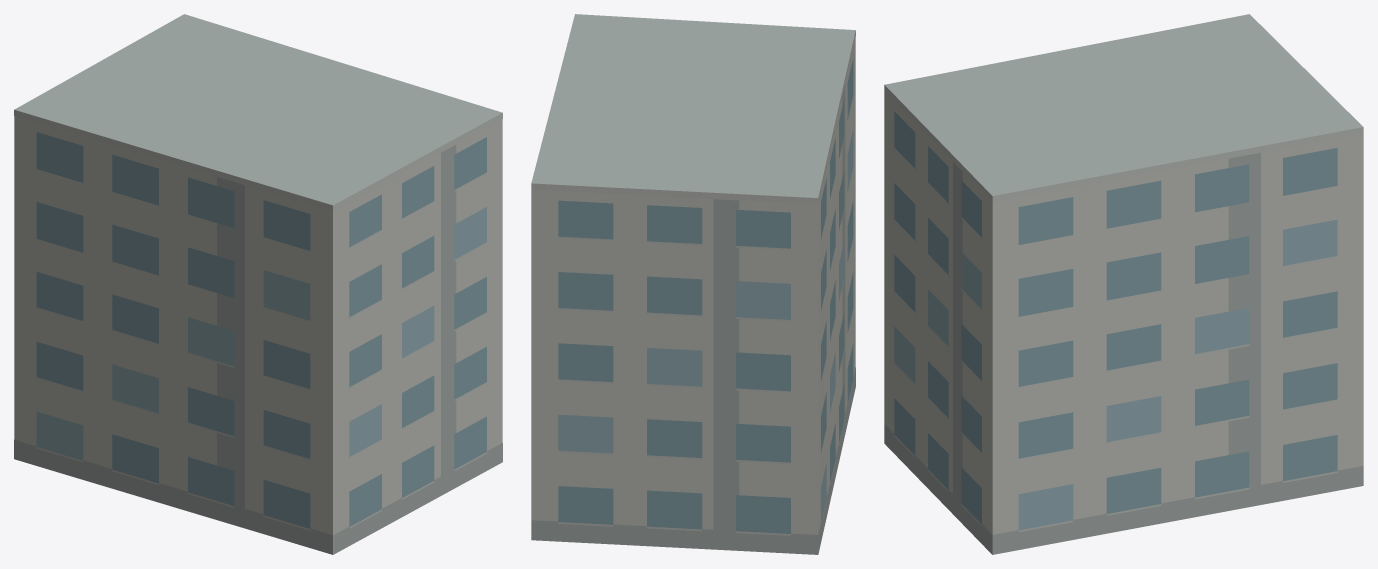
Rendered from survey-upis-32848184.glb.
3 renders of one model, left to right at view 1: azimuth 30°, elevation 25°; view 2: azimuth 150°, elevation 25°; view 3: azimuth 270°, elevation 25°, orthographic. The views are drawn at different scales.
Visible parts, largest first — view 1: survey-upis-32848184.tmp; view 2: survey-upis-32848184.tmp; view 3: survey-upis-32848184.tmp.
Part boxes in pixels (x1,y1,x2,y2): survey-upis-32848184.tmp: (14,14,502,554); survey-upis-32848184.tmp: (531,14,855,554); survey-upis-32848184.tmp: (884,14,1363,554).
Bounding box in the file's own units: 14.74 × 13.53 × 16.39.
